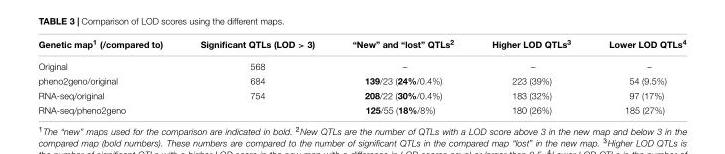table: (37, 37, 685, 114)
table column: (180, 37, 332, 114), (37, 37, 180, 114), (332, 37, 472, 114), (472, 37, 589, 114), (589, 37, 685, 114)
table column header: (37, 37, 685, 54)
table row: (37, 54, 685, 72), (37, 37, 685, 54), (37, 72, 685, 87), (37, 87, 685, 102), (37, 102, 685, 114)
